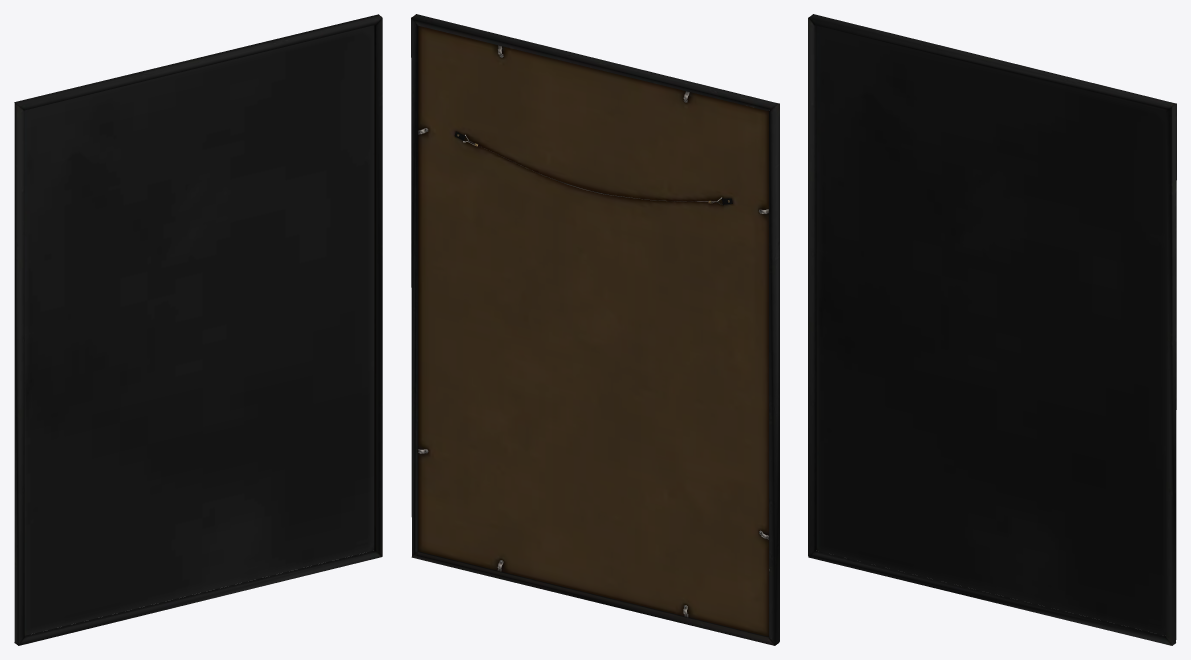
The model's file is hanging_picture_frame_01.glb.
3 renders of one model, left to right at view 1: azimuth 30°, elevation 25°; view 2: azimuth 150°, elevation 25°; view 3: azimuth 330°, elevation 25°, orthographic.
Visible parts, largest first — view 1: hanging_picture_frame_01; view 2: hanging_picture_frame_01; view 3: hanging_picture_frame_01.
Part boxes in pixels (x1=…): hanging_picture_frame_01: x1=14, y1=14, x2=382, y2=645; hanging_picture_frame_01: x1=411, y1=14, x2=779, y2=645; hanging_picture_frame_01: x1=808, y1=14, x2=1176, y2=645.
Bounding box in the file's own units: 0.5932 × 0.8406 × 0.0151.
Materials: 3 (3 with a texture image).
